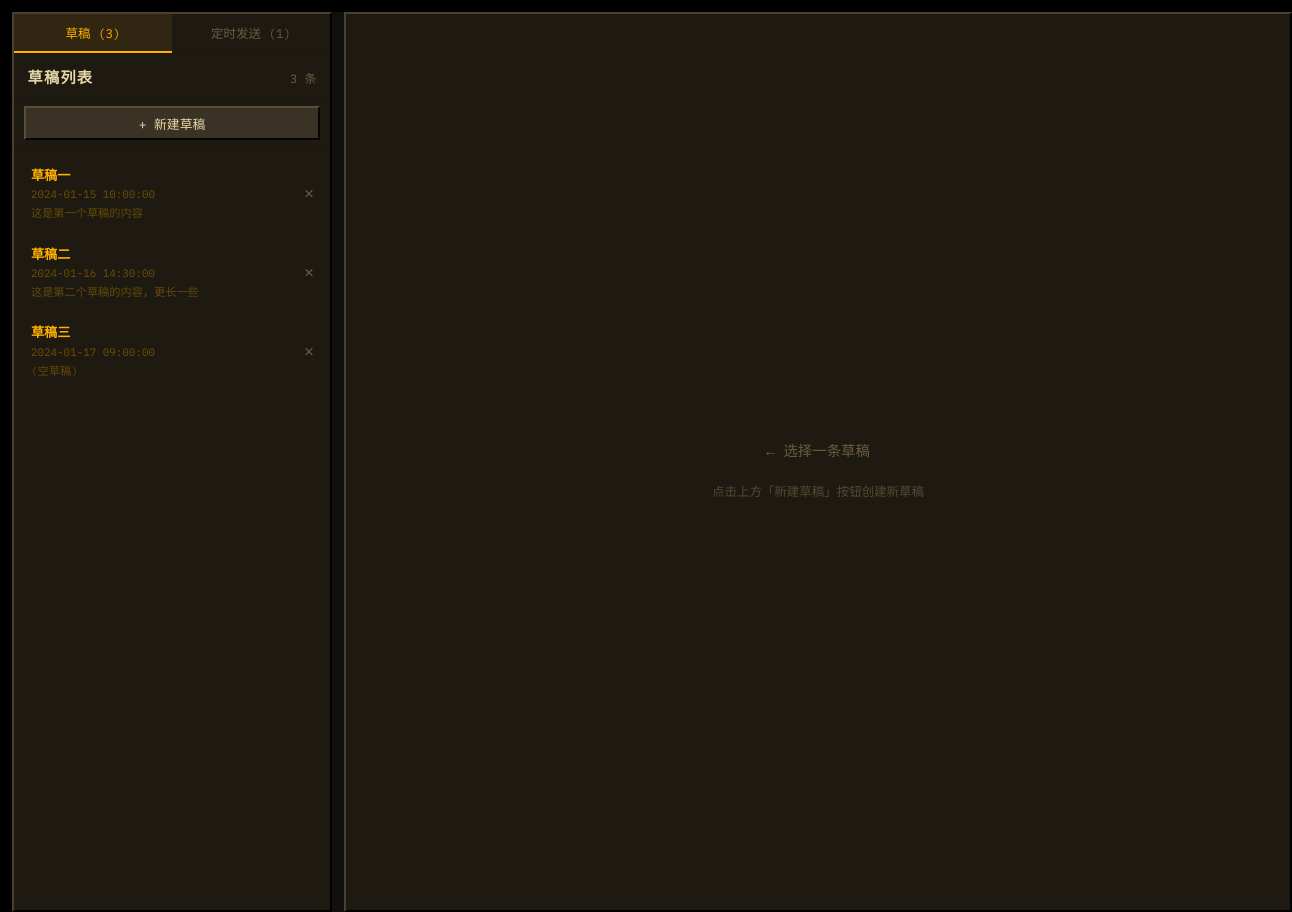
DraftPage › 新建草稿 › 点击新建草稿按钮应该进入创建模式
Click the button "+ 新建草稿".
click(172, 123)  # box [24,106,320,140]
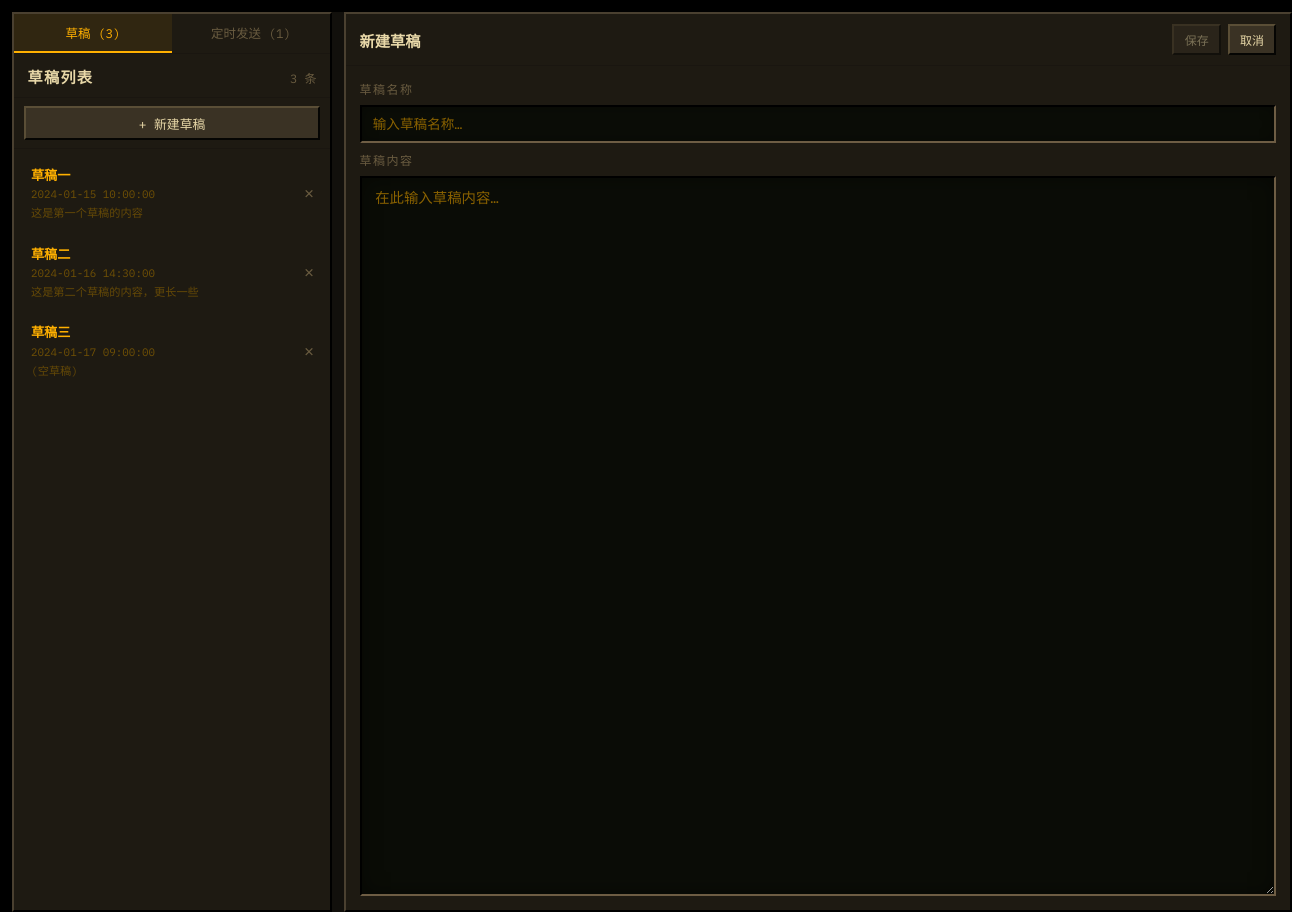
Check: the heading "新建草稿" is shown, box [360,29,420,51]
Check: the field labelled "草稿名称" is shown, box [360,105,1276,143]
Check: the text box labelled "草稿内容" is shown, box [360,176,1276,896]
